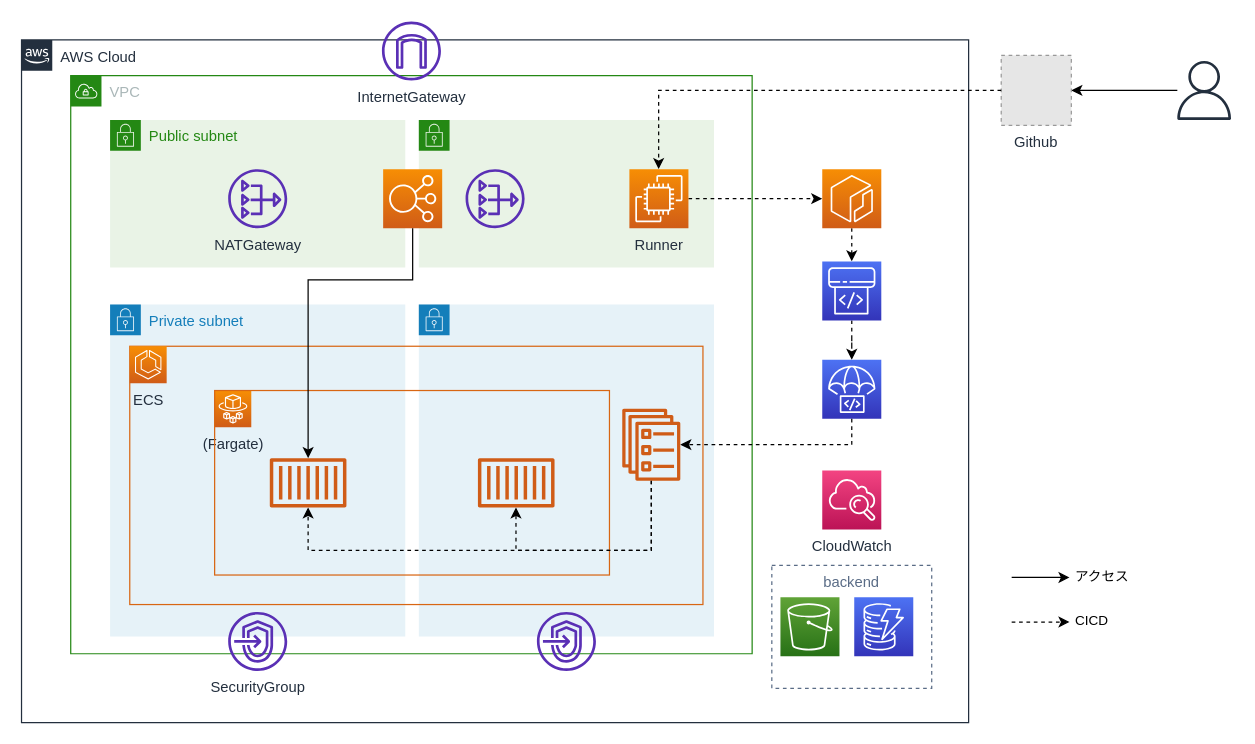
Image size: 1255x744. Some labels were removed from this diagram. Grey dashed boxes stand in for pictures. Here are the shapes that lost their labels. From the top down, the centre of each, then its label:
At point (412, 198): "ALB".
At point (851, 198): "ECR".
At point (851, 290): "CodePipeline".
At point (851, 389): "CodeDeploy".
At point (809, 626): "S3".
At point (883, 626): "DynamoDB".
